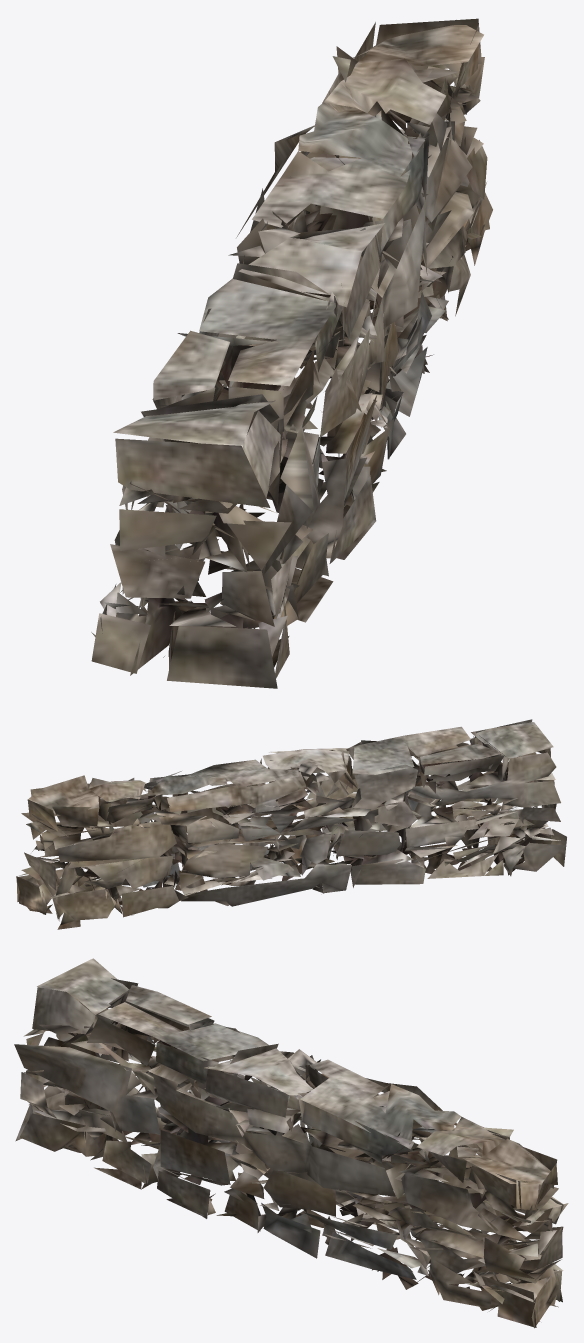
Rendered from serra_trockenmauer.glb.
3 views of the same model, one above another, from view 1: azimuth 30°, elevation 25°; view 2: azimuth 150°, elevation 25°; view 3: azimuth 270°, elevation 25° (orthographic). The views are drawn at different scales.
Visible parts, largest first — view 1: Prop; view 2: Prop; view 3: Prop.
Part boxes in pixels (bbox=[...]): Prop: bbox=[91, 18, 492, 688]; Prop: bbox=[16, 719, 566, 929]; Prop: bbox=[14, 958, 568, 1328].
Bounding box in the file's own units: 3.27 × 1.13 × 3.29.
Materials: 1 (1 with a texture image).
